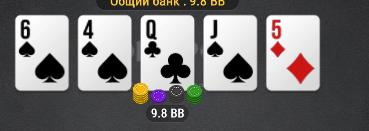4s: (79, 17, 130, 90)
5d: (268, 17, 319, 90)
6s: (17, 17, 68, 90)
Js: (205, 16, 257, 90)
Qc: (142, 17, 194, 89)
